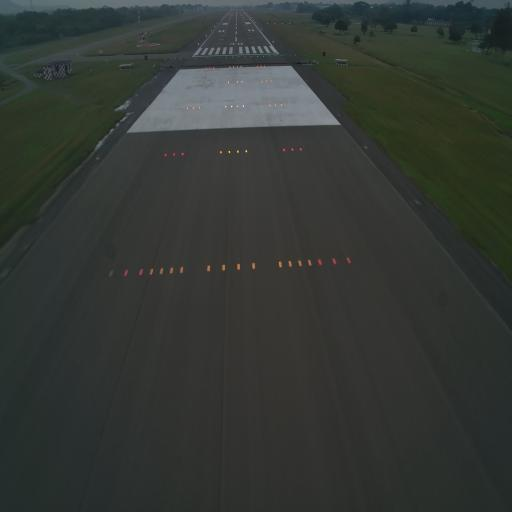off: (106, 266, 114, 279), (93, 152, 101, 164), (362, 142, 369, 155), (415, 196, 422, 208)
on: (296, 254, 304, 272), (250, 258, 258, 274), (122, 264, 130, 279), (315, 255, 323, 269), (344, 252, 353, 264), (158, 264, 165, 279), (179, 264, 187, 277), (219, 261, 227, 274), (329, 256, 337, 269), (204, 262, 212, 274), (276, 256, 282, 272), (147, 266, 155, 277), (236, 260, 242, 274), (287, 258, 294, 270), (306, 256, 312, 270), (167, 266, 175, 276), (138, 266, 144, 279), (289, 145, 294, 154), (163, 151, 168, 159), (172, 150, 176, 159), (219, 149, 224, 156), (227, 149, 232, 156), (180, 151, 184, 159), (244, 148, 248, 156), (282, 146, 286, 154), (298, 146, 303, 152), (236, 148, 240, 155)
